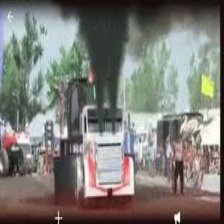smoke: (91, 1, 127, 134)
